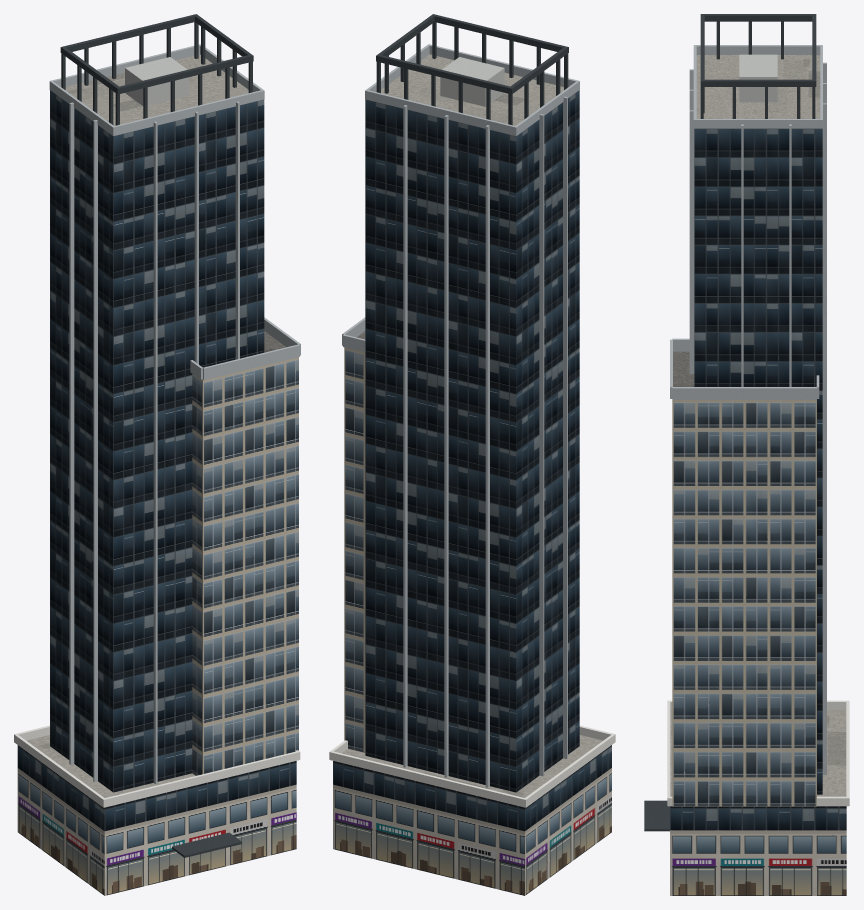
The model's file is OW_CaoOc_VP_KhoiLech_104.fbx.
The picture shows the model from 3 angles, left to right: view 1: azimuth 30°, elevation 25°; view 2: azimuth 150°, elevation 25°; view 3: azimuth 270°, elevation 25°; orthographic projection.
Visible parts, largest first — view 1: OW_CaoOc_VP_KhoiLech_104_LOD0; view 2: OW_CaoOc_VP_KhoiLech_104_LOD0; view 3: OW_CaoOc_VP_KhoiLech_104_LOD0.
Part boxes in pixels (bbox=[...]): OW_CaoOc_VP_KhoiLech_104_LOD0: bbox=[14, 14, 300, 895]; OW_CaoOc_VP_KhoiLech_104_LOD0: bbox=[329, 14, 615, 895]; OW_CaoOc_VP_KhoiLech_104_LOD0: bbox=[644, 14, 849, 895].
Size of what is drawn, in the model's own units: 29.15 by 110 by 25.55.
